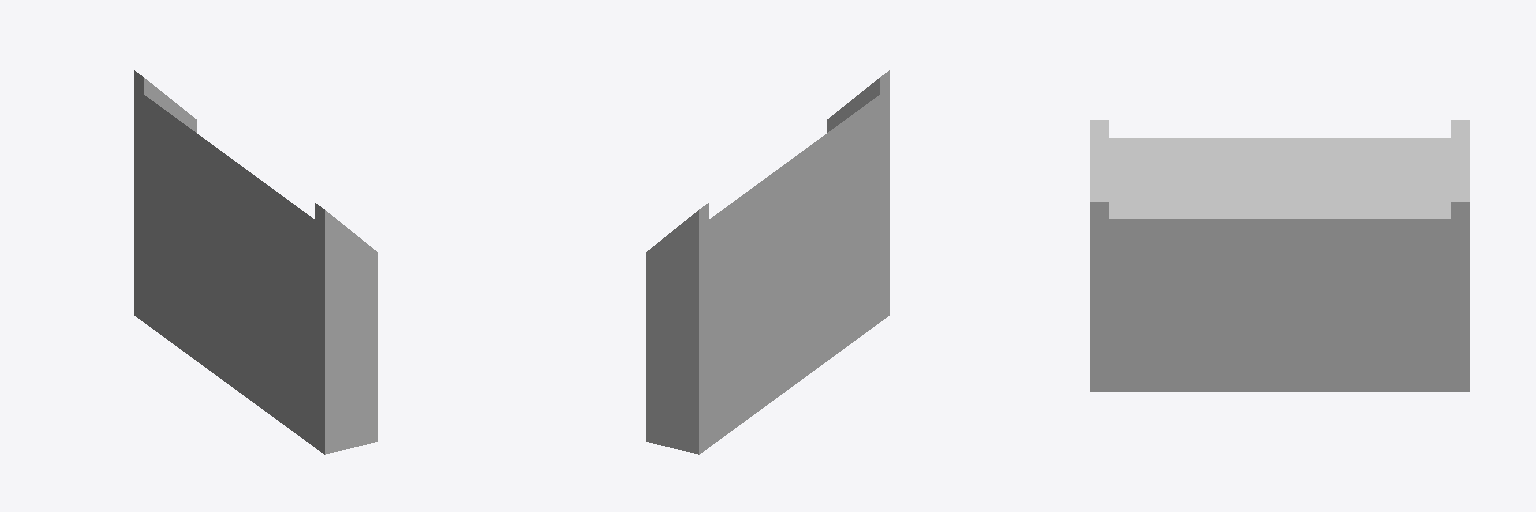
The model's file is ramp_45.obj.
3 renders of one model, left to right at view 1: azimuth 30°, elevation 25°; view 2: azimuth 150°, elevation 25°; view 3: azimuth 270°, elevation 25°, orthographic.
Parts seen in each view (by area): view 1: 45_ramp_Plane.013; view 2: 45_ramp_Plane.013; view 3: 45_ramp_Plane.013, 45_ramp.001_Plane.001.
Boxes of the visible parts, box(x1,y1,x2,y2) form: 45_ramp_Plane.013: box(134, 70, 377, 454); 45_ramp_Plane.013: box(646, 70, 889, 454); 45_ramp_Plane.013: box(1090, 120, 1469, 391); 45_ramp.001_Plane.001: box(1109, 138, 1450, 218).
Bounding box in the file's own units: 1.93 × 8.53 × 12.